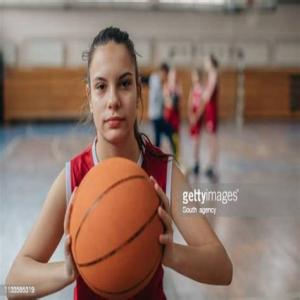Basket: (67, 156, 165, 300)
